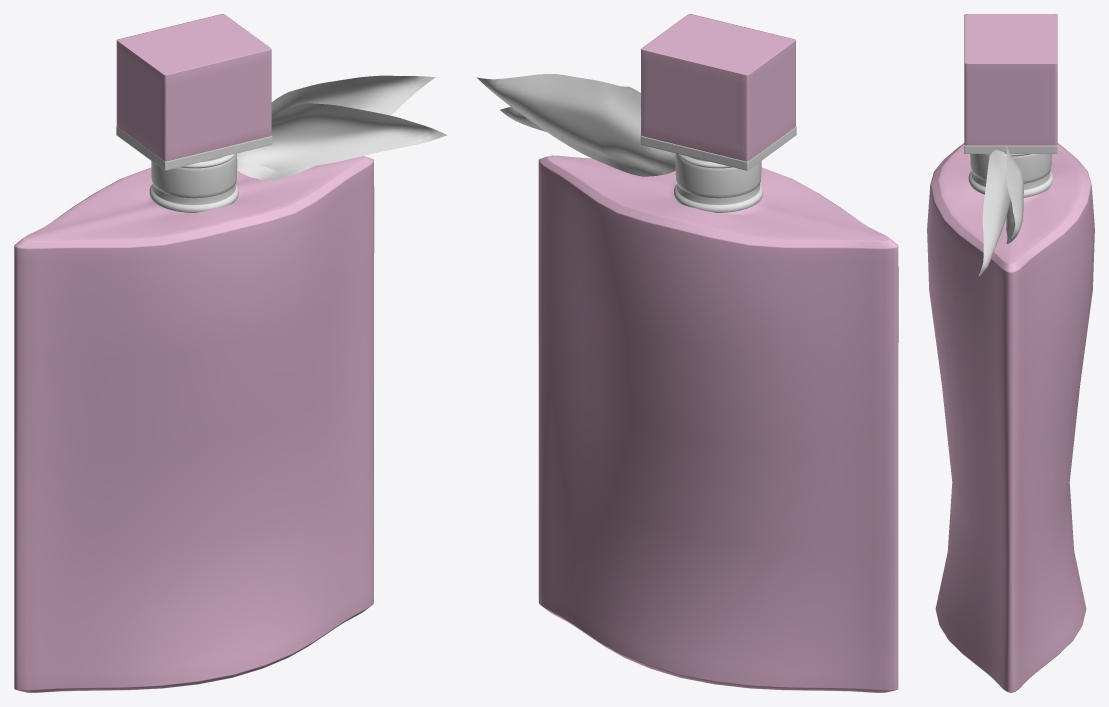
The model's file is perfume5.glb.
3 renders of one model, left to right at view 1: azimuth 30°, elevation 25°; view 2: azimuth 150°, elevation 25°; view 3: azimuth 270°, elevation 25°, orthographic. The views are drawn at different scales.
Visible parts, largest first — view 1: perfume5; view 2: perfume5; view 3: perfume5.
Part boxes in pixels (x1,y1,x2,y2): perfume5: [14, 14, 447, 692]; perfume5: [476, 14, 898, 692]; perfume5: [927, 14, 1094, 692].
Size of the model in its own units: 7.37 by 10.11 by 2.68.
